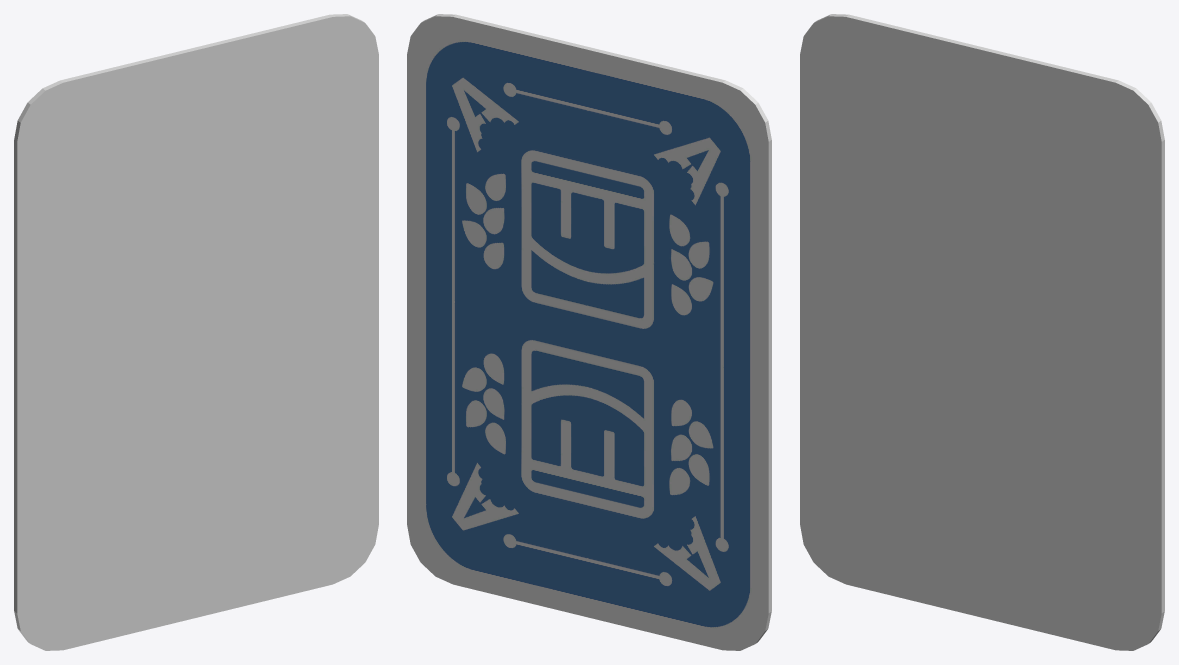
File: blank card.glb
3 views of the same model, side by side, from view 1: azimuth 30°, elevation 25°; view 2: azimuth 150°, elevation 25°; view 3: azimuth 330°, elevation 25° (orthographic).
Parts seen in each view (by area): view 1: PlayingCard_LOD0; view 2: PlayingCard_LOD0; view 3: PlayingCard_LOD0.
Boxes of the visible parts, box(x1,y1,x2,y2) form: PlayingCard_LOD0: box(14, 14, 378, 650); PlayingCard_LOD0: box(407, 14, 771, 650); PlayingCard_LOD0: box(800, 14, 1164, 650).
Size of the model in its own units: 0.1 by 0.15 by 0.0015.
Materials: 1 (1 with a texture image).
